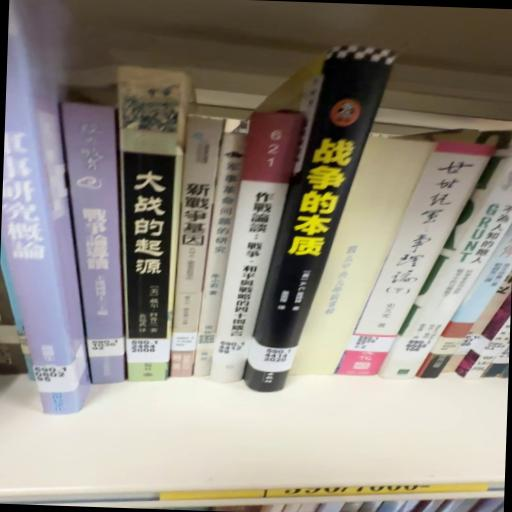backward: (290, 138, 434, 376)
book: (245, 43, 401, 390), (298, 131, 504, 386), (1, 1, 103, 416), (207, 107, 309, 389), (111, 68, 189, 389), (55, 101, 139, 386), (177, 117, 229, 397)
